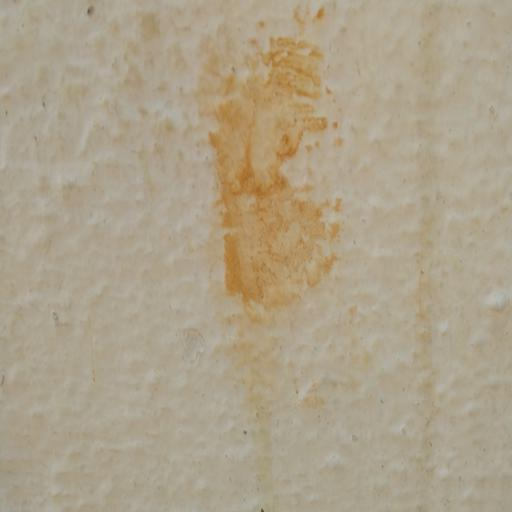stain: (187, 9, 374, 474)
